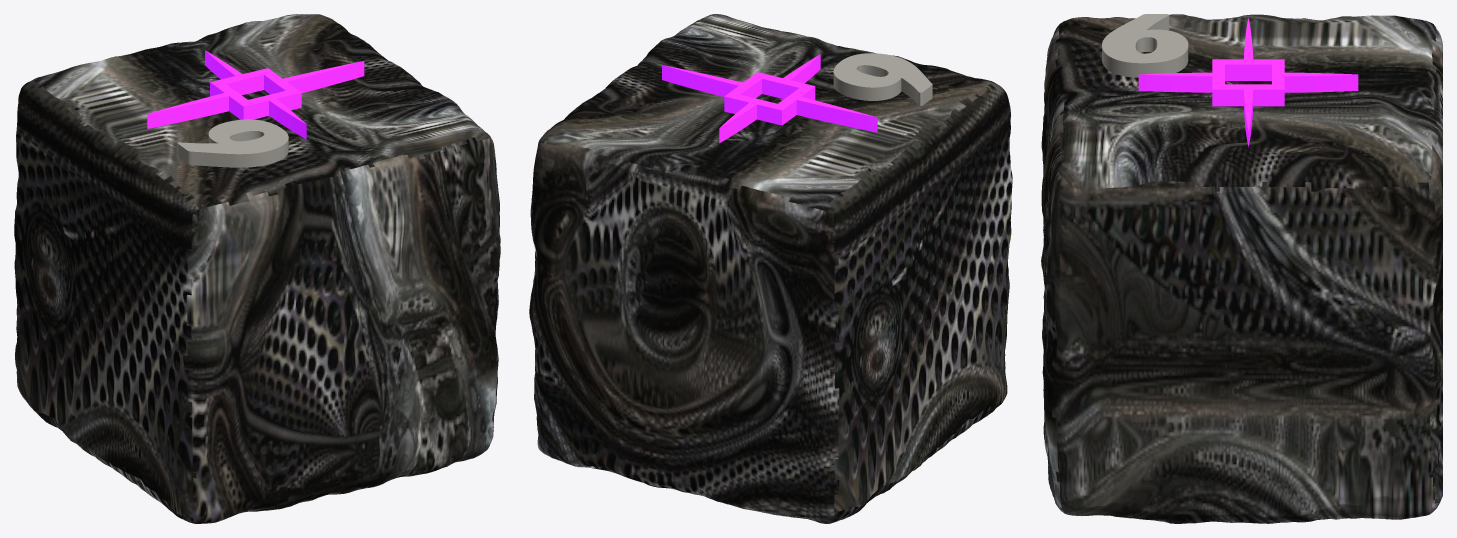
The model's file is slow_pulse.glb.
3 views of the same model, side by side, from view 1: azimuth 30°, elevation 25°; view 2: azimuth 150°, elevation 25°; view 3: azimuth 270°, elevation 25° (orthographic). The views are drawn at different scales.
Parts seen in each view (by area): view 1: Alien Animado; view 2: Alien Animado; view 3: Alien Animado.
Part boxes in pixels (x1=…): Alien Animado: x1=14, y1=14, x2=500, y2=523; Alien Animado: x1=529, y1=14, x2=1012, y2=523; Alien Animado: x1=1041, y1=14, x2=1442, y2=523.
Bounding box in the file's own units: 93.9 × 98.39 × 96.4.
Materials: 3 (1 with a texture image).
